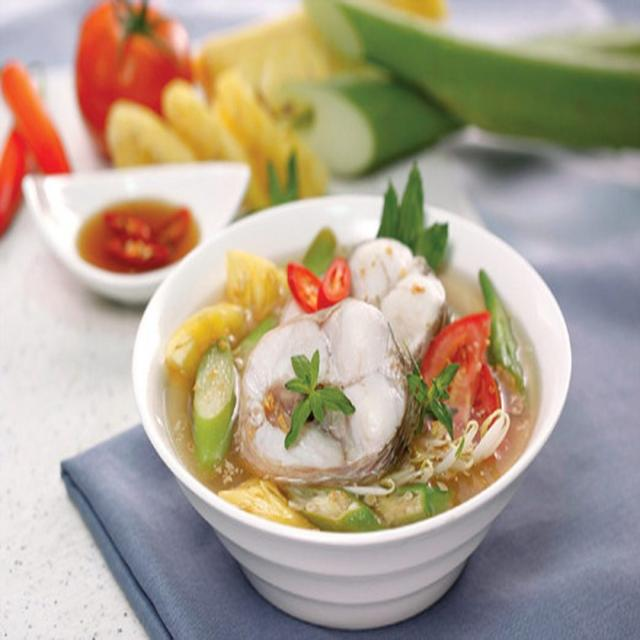canh chua: (161, 184, 534, 531)
